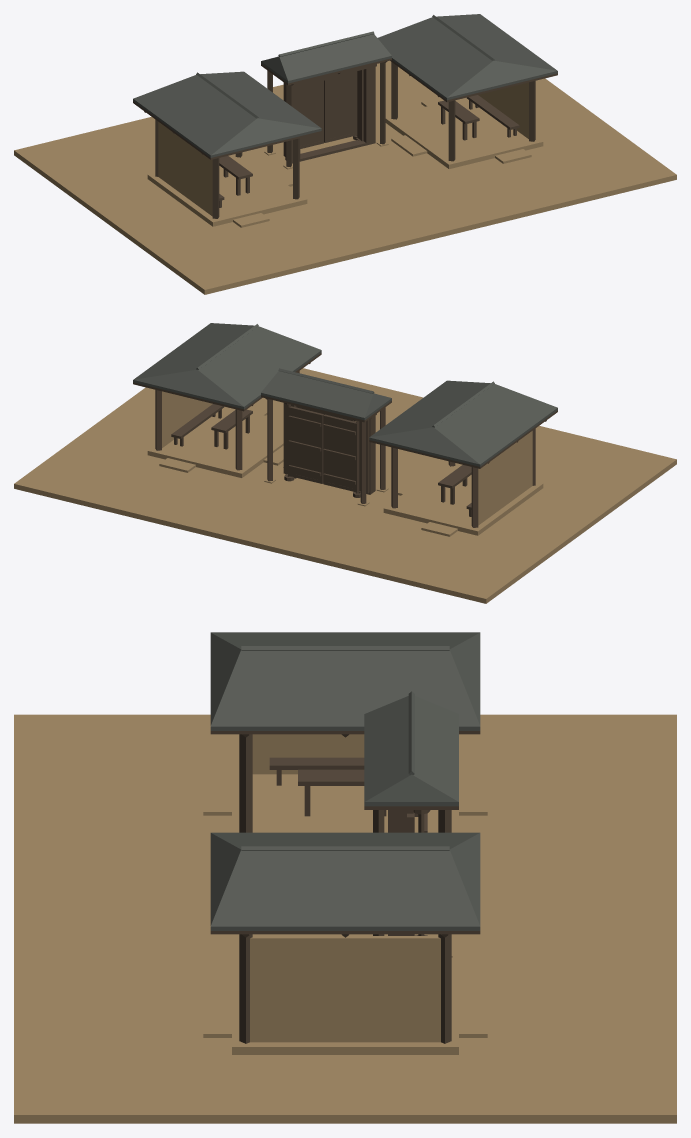
File: guard-slice-closed-LOD2.glb
3 views of the same model, one above another, from view 1: azimuth 30°, elevation 25°; view 2: azimuth 150°, elevation 25°; view 3: azimuth 270°, elevation 25° (orthographic). The views are drawn at different scales.
Parts seen in each view (by area): view 1: guard-slice-ground-earth, guard-slice-west-tile, guard-slice-east-tile, guard-slice-west-earth, guard-slice-east-earth, guard-slice-portal-timber, guard-slice-portal-tile, guard-slice-east-timber, guard-slice-west-timber, guard-slice-leaf_R-timber, guard-slice-leaf_L-timber; view 2: guard-slice-ground-earth, guard-slice-west-tile, guard-slice-east-tile, guard-slice-west-earth, guard-slice-east-earth, guard-slice-portal-tile, guard-slice-portal-timber, guard-slice-leaf_L-timber, guard-slice-east-timber, guard-slice-leaf_R-timber, guard-slice-west-timber; view 3: guard-slice-ground-earth, guard-slice-east-tile, guard-slice-east-earth, guard-slice-west-tile, guard-slice-west-earth, guard-slice-portal-tile, guard-slice-west-timber, guard-slice-east-timber, guard-slice-portal-timber.
Part boxes in pixels (bbox=[...]): guard-slice-ground-earth: bbox=[14, 60, 676, 294]; guard-slice-west-tile: bbox=[133, 71, 321, 157]; guard-slice-east-tile: bbox=[378, 14, 557, 100]; guard-slice-west-earth: bbox=[147, 122, 307, 227]; guard-slice-east-earth: bbox=[385, 82, 543, 168]; guard-slice-portal-timber: bbox=[261, 58, 391, 167]; guard-slice-portal-tile: bbox=[261, 31, 391, 83]; guard-slice-east-timber: bbox=[390, 60, 557, 161]; guard-slice-west-timber: bbox=[133, 101, 321, 218]; guard-slice-leaf_R-timber: bbox=[324, 71, 357, 142]; guard-slice-leaf_L-timber: bbox=[300, 80, 323, 148]; guard-slice-ground-earth: bbox=[14, 368, 676, 603]; guard-slice-west-tile: bbox=[369, 380, 557, 466]; guard-slice-east-tile: bbox=[133, 323, 321, 409]; guard-slice-west-earth: bbox=[383, 431, 543, 536]; guard-slice-east-earth: bbox=[147, 391, 283, 477]; guard-slice-portal-tile: bbox=[261, 368, 391, 420]; guard-slice-portal-timber: bbox=[261, 395, 391, 503]; guard-slice-leaf_L-timber: bbox=[323, 414, 359, 493]; guard-slice-east-timber: bbox=[133, 353, 321, 470]; guard-slice-leaf_R-timber: bbox=[288, 404, 323, 483]; guard-slice-west-timber: bbox=[369, 410, 557, 527]; guard-slice-ground-earth: bbox=[14, 714, 676, 1123]; guard-slice-east-tile: bbox=[210, 832, 480, 930]; guard-slice-east-earth: bbox=[203, 936, 487, 1054]; guard-slice-west-tile: bbox=[210, 632, 480, 730]; guard-slice-west-earth: bbox=[203, 734, 487, 832]; guard-slice-portal-tile: bbox=[364, 691, 458, 806]; guard-slice-west-timber: bbox=[210, 731, 480, 832]; guard-slice-east-timber: bbox=[210, 931, 480, 1043]; guard-slice-portal-timber: bbox=[364, 806, 458, 935].
Bounding box in the file's own units: 20 × 4.48 × 14.
